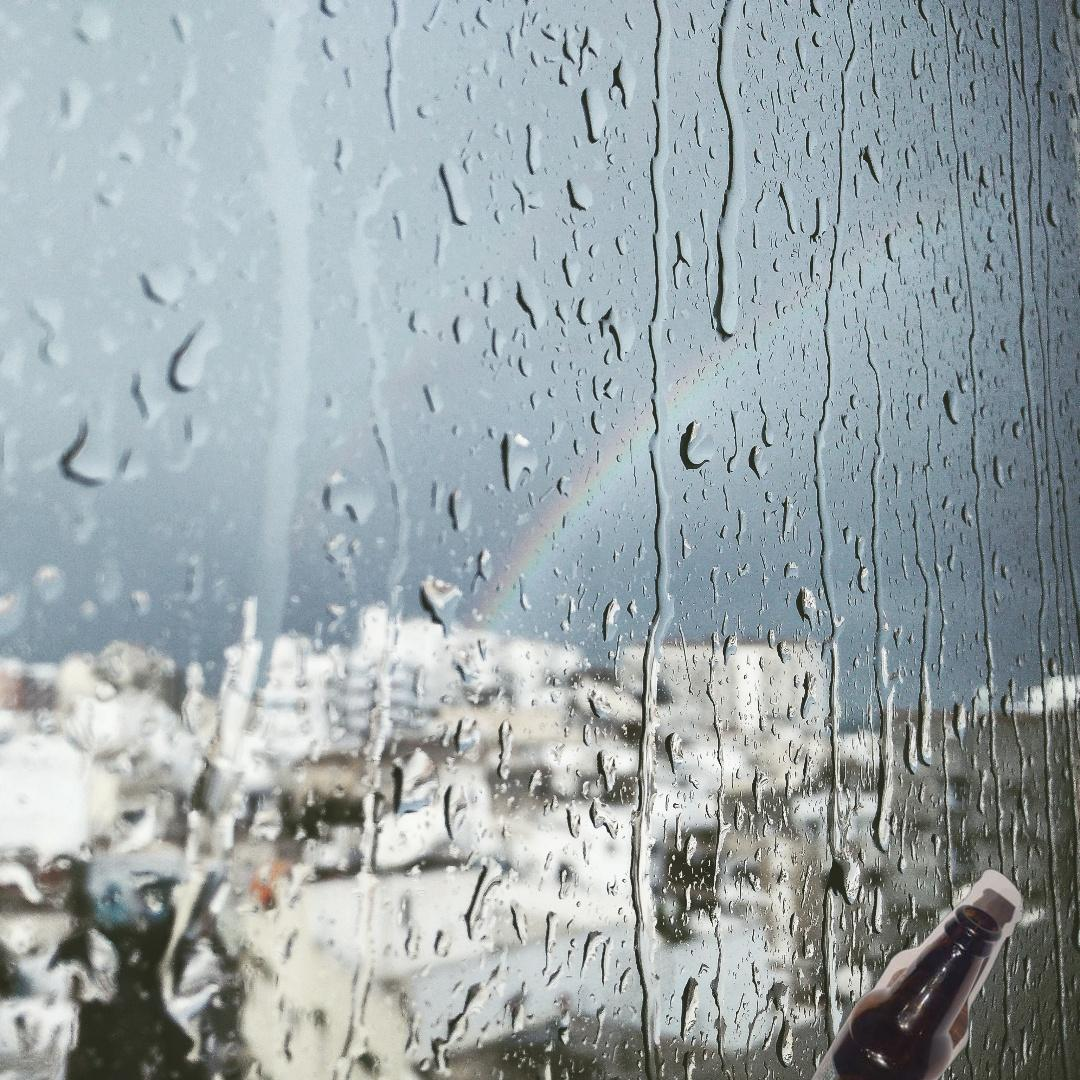glass: (788, 867, 1027, 1080)
